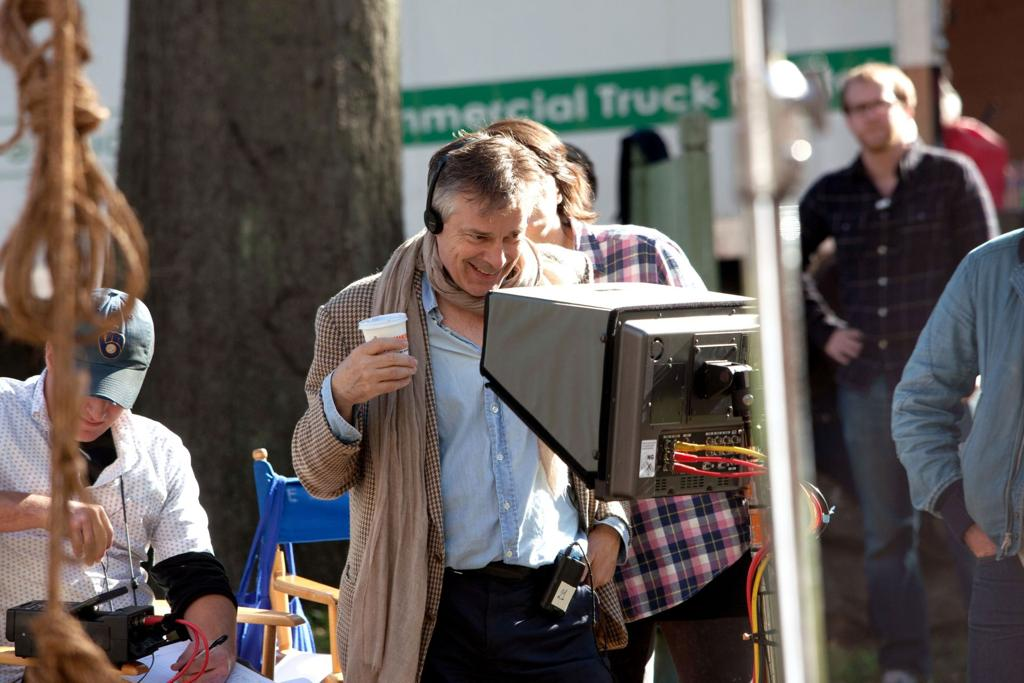face: (446, 196, 526, 294), (58, 344, 128, 448), (842, 78, 904, 152)
